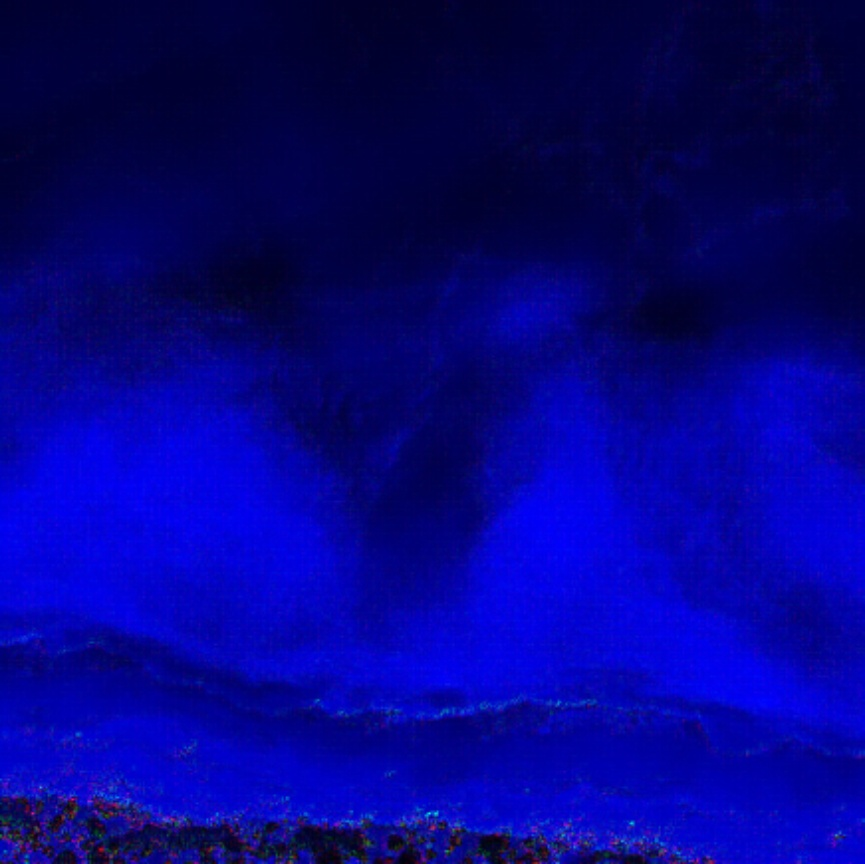rip_current: (236, 260, 569, 684)
